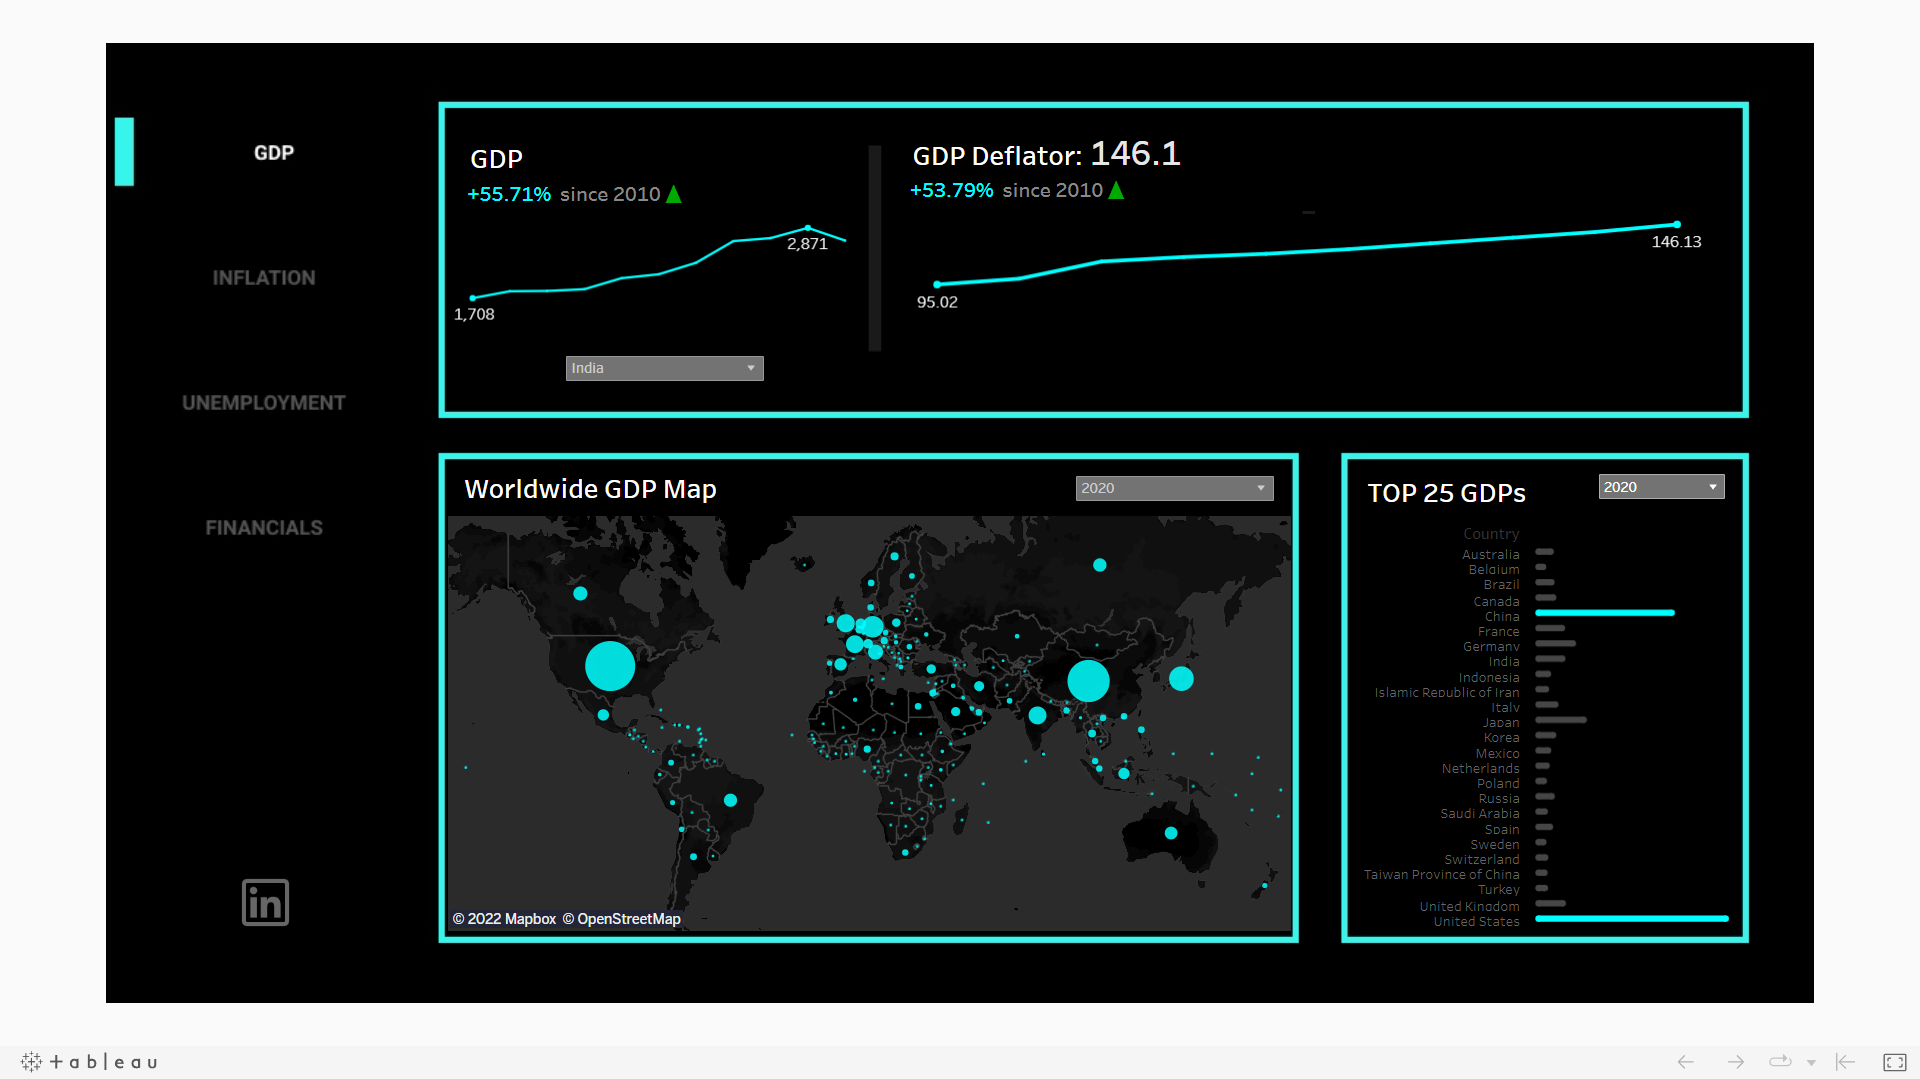

This screenshot's page, from the dashboard's own definition file:
{"tool":"tableau","page":{"name":"D GDP","canvas":[1366,768],"ordinal":1},"visuals":[{"type":"image","param":"Image/Untitled (12).png","box":[0,0,1366,768]},{"type":"worksheet","title":"C","mark":"Automatic","rows":["Pivot Field Values"],"cols":["Pivot Field Names"],"box":[978,69,325,223]},{"type":"worksheet","title":"gdp2","mark":"Line","rows":["Pivot Field Values"],"cols":["Pivot Field Names"],"box":[281,71,327,222]},{"type":"worksheet","title":"gdef","mark":"Automatic","rows":["Pivot Field Values"],"cols":["Pivot Field Names"],"box":[625,72,333,221]},{"type":"dashboard-object","box":[11,266,202,54]},{"type":"filter","title":"gdef","param":"[federated.0yq4e3j11baql91095ysk00308b3].[none:Country:nk]","box":[716,266,160,28]},{"type":"worksheet","title":"gdp","mark":"Automatic","box":[276,339,675,376]},{"type":"worksheet","title":"25GDP","mark":"Line","rows":["Country"],"box":[1002,339,309,369]},{"type":"filter","title":"gdp","param":"[federated.0q0a2gw1wf7g7w10bf0l80jf3xk3].[:Measure Names]","box":[786,343,160,26]},{"type":"filter","title":"25GDP","param":"[federated.1t0uodo01n7b3112vd2al132ulcs].[yr:Pivot Field Names:ok]","box":[1202,347,103,30]},{"type":"dashboard-object","box":[11,378,203,54]},{"type":"dashboard-object","box":[11,488,202,57]}]}

Visuals, with their boxes on the page's 1366x768 design canvas (x1, y1, x2, y2). These are canvas units, not pixel positions in the 1920x1080 screenshot, which may show the page scaled, cropped or inside an application window:
image: l=0, t=0, r=1366, b=768
"C" worksheet: l=978, t=69, r=1303, b=292
"gdp2" worksheet (Line marks): l=281, t=71, r=608, b=293
"gdef" worksheet: l=625, t=72, r=958, b=293
dashboard-object: l=11, t=266, r=213, b=320
"gdef" filter: l=716, t=266, r=876, b=294
"gdp" worksheet: l=276, t=339, r=951, b=715
"25GDP" worksheet (Line marks): l=1002, t=339, r=1311, b=708
"gdp" filter: l=786, t=343, r=946, b=369
"25GDP" filter: l=1202, t=347, r=1305, b=377
dashboard-object: l=11, t=378, r=214, b=432
dashboard-object: l=11, t=488, r=213, b=545
